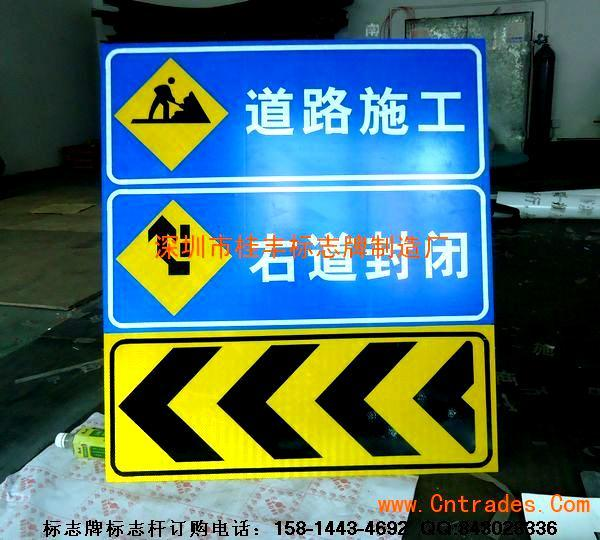sign: (103, 49, 501, 472)
